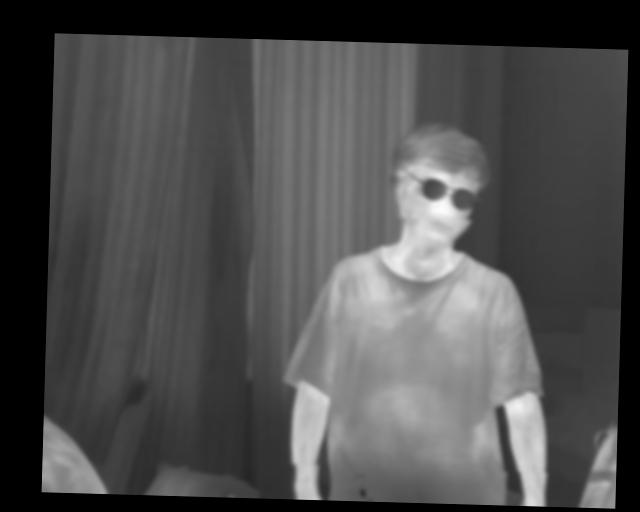face: (390, 121, 492, 252)
